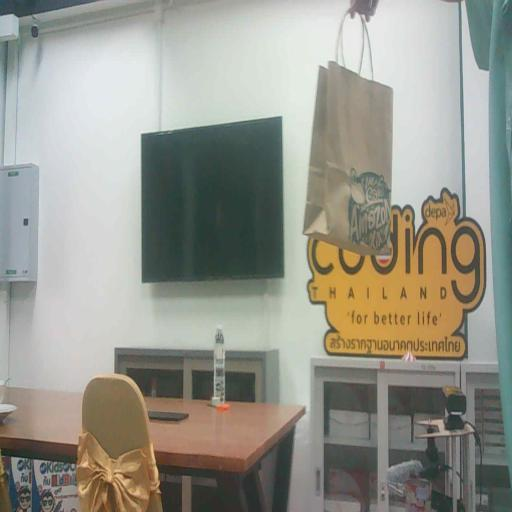bag: (304, 54, 394, 260)
